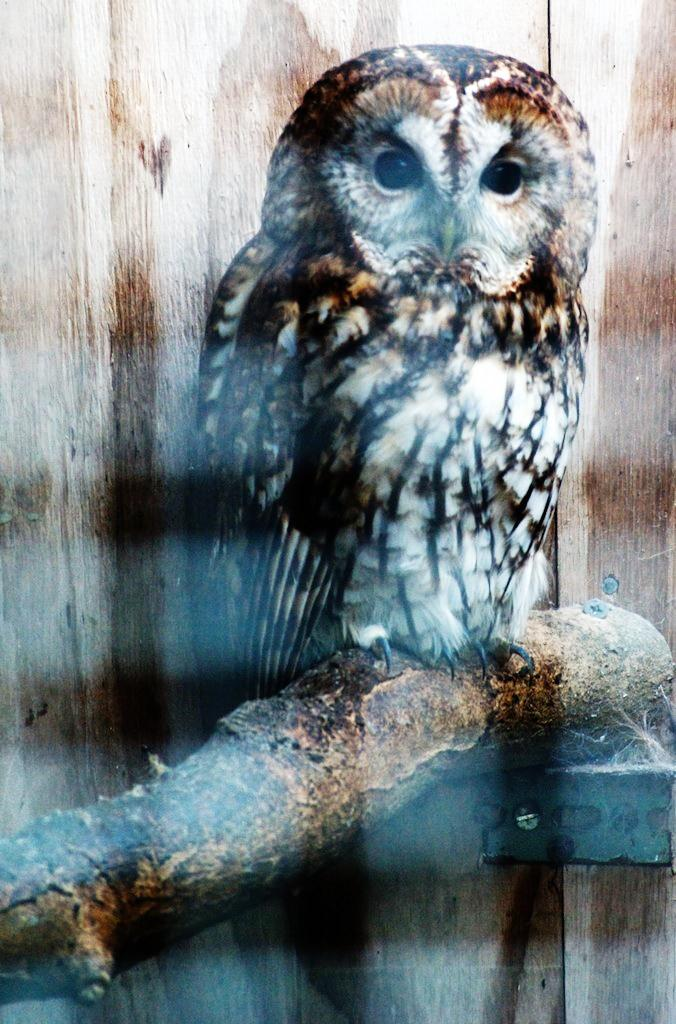Owl: (192, 33, 599, 729)
